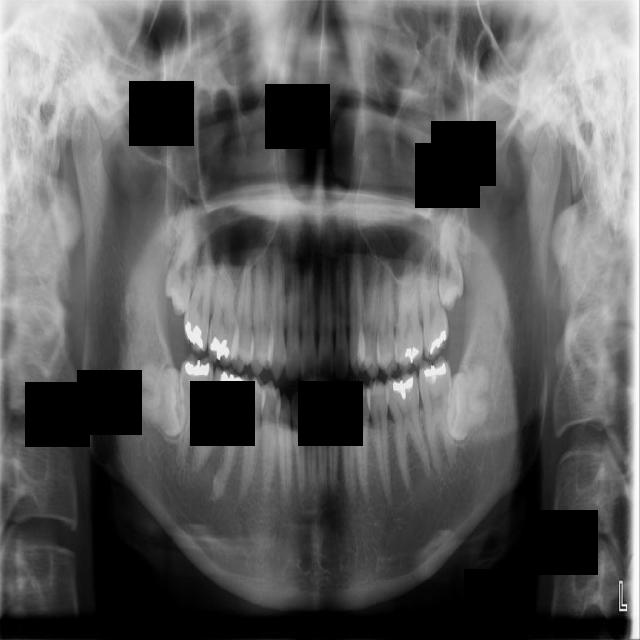3M ESPE Implant: (160, 195, 208, 318)
52: (217, 366, 246, 397), (184, 319, 206, 352), (425, 329, 451, 356), (391, 376, 418, 401), (208, 334, 231, 362), (423, 362, 448, 385), (185, 360, 209, 376), (401, 344, 420, 364)
73: (621, 587, 628, 618)
BioHorizons Implant: (415, 222, 451, 361)
BioLife Implant: (436, 197, 464, 311)
Biomet 3i Implant: (444, 359, 493, 445)
Blue Sky Bio Implant: (416, 356, 458, 473)
Caries: (181, 226, 220, 355)
Implant: (175, 353, 215, 472)
Keystone Dental Implant: (138, 361, 188, 438)
